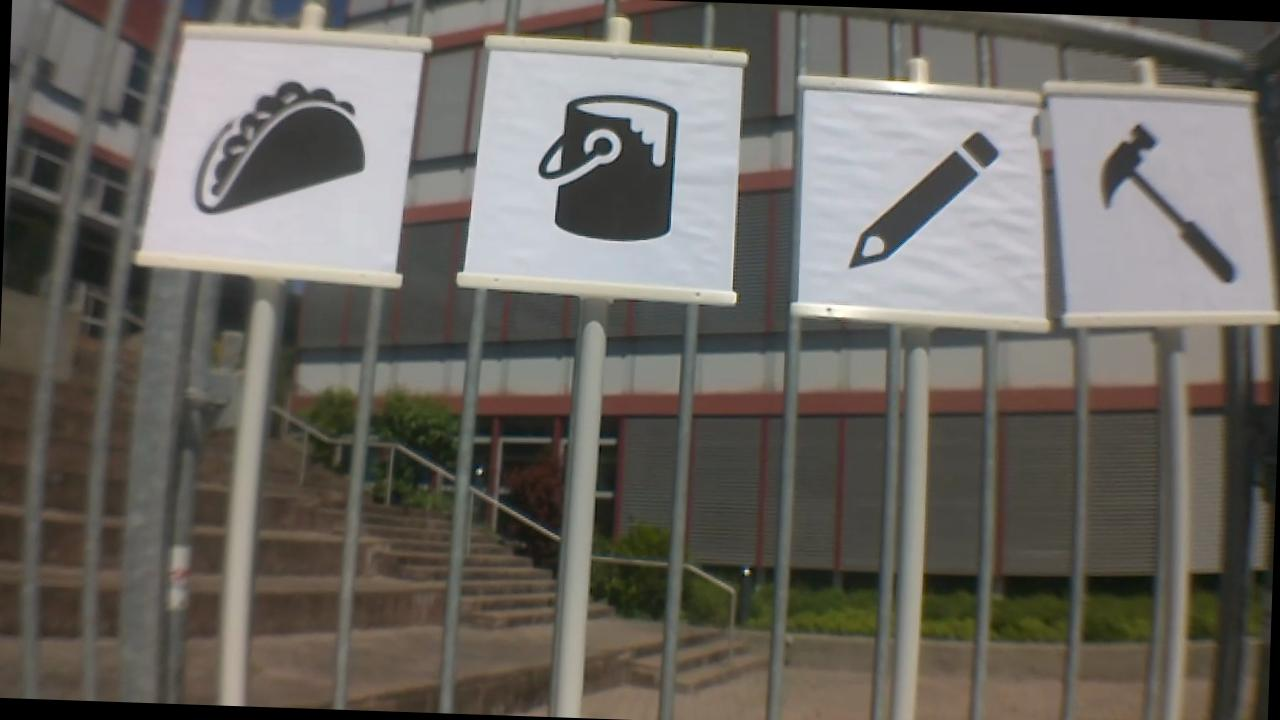bucket: (522, 84, 686, 248)
hammer: (1087, 119, 1244, 286)
pencil: (846, 125, 1006, 271)
taco: (187, 71, 380, 224)
